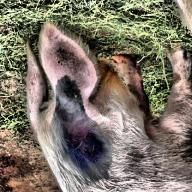boar: (26, 21, 192, 192), (176, 0, 191, 33)
